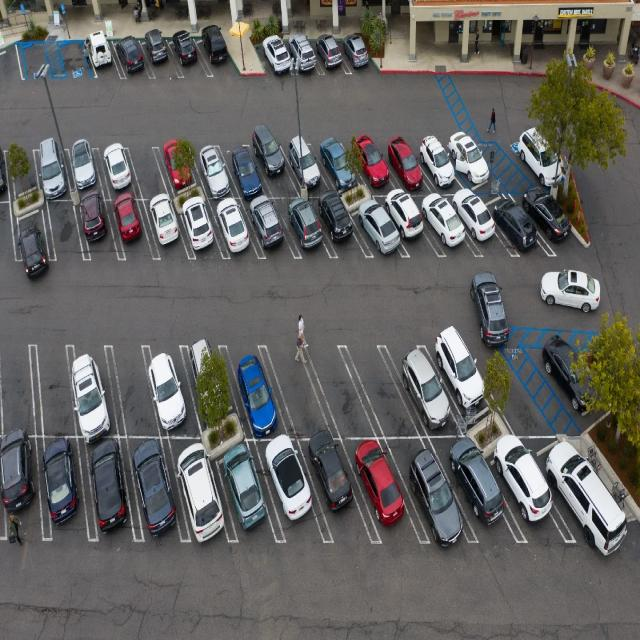discapacitados: (64, 41, 93, 78), (46, 39, 68, 81), (28, 57, 50, 80)
libre: (270, 344, 420, 435), (481, 352, 552, 444), (2, 344, 70, 427), (112, 344, 160, 432), (51, 204, 86, 267), (128, 137, 163, 193)
ocupado: (0, 420, 640, 564), (76, 114, 587, 263), (30, 131, 148, 250), (390, 318, 503, 440), (82, 26, 235, 77), (253, 27, 380, 77), (230, 337, 287, 448), (187, 334, 239, 435), (66, 350, 116, 440), (147, 351, 194, 444)
